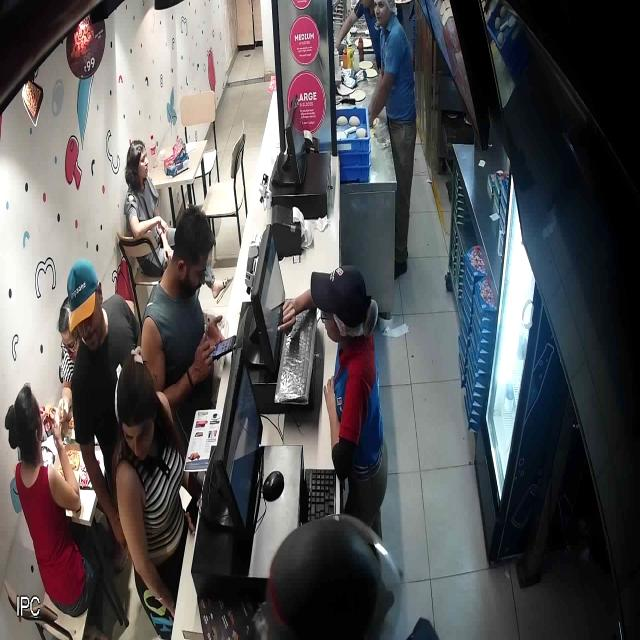helmet: (264, 509, 402, 639)
no_helmet: (310, 265, 378, 354), (117, 344, 157, 461), (172, 204, 217, 298), (67, 260, 108, 353), (4, 383, 44, 466), (124, 140, 150, 191)
